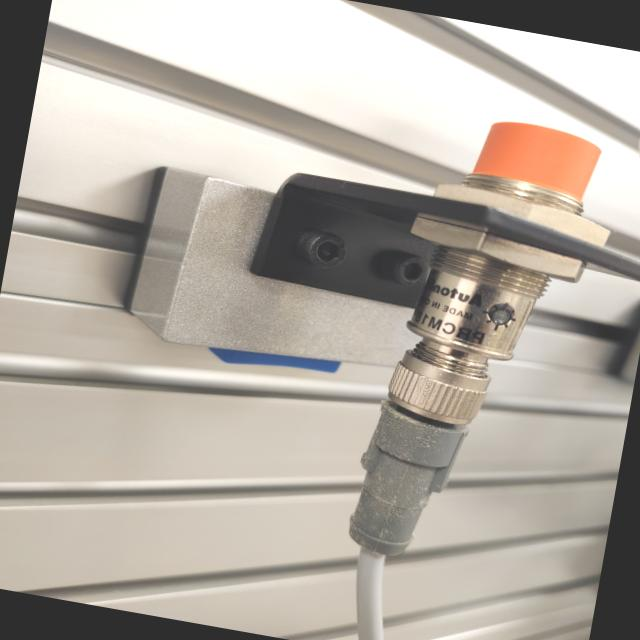inductive sensor: (81, 53, 640, 605)
